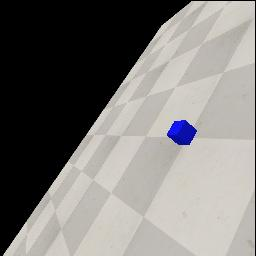box: (167, 120, 197, 145)
